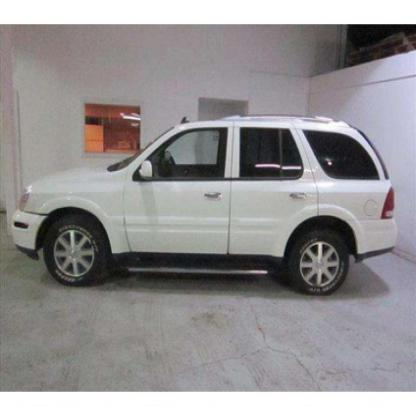car: (5, 111, 401, 303)
